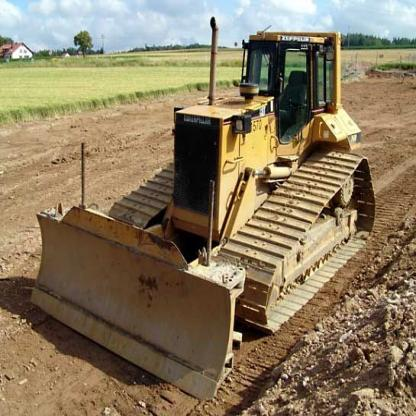bull_dozer/loader/grader: (34, 17, 382, 394)
